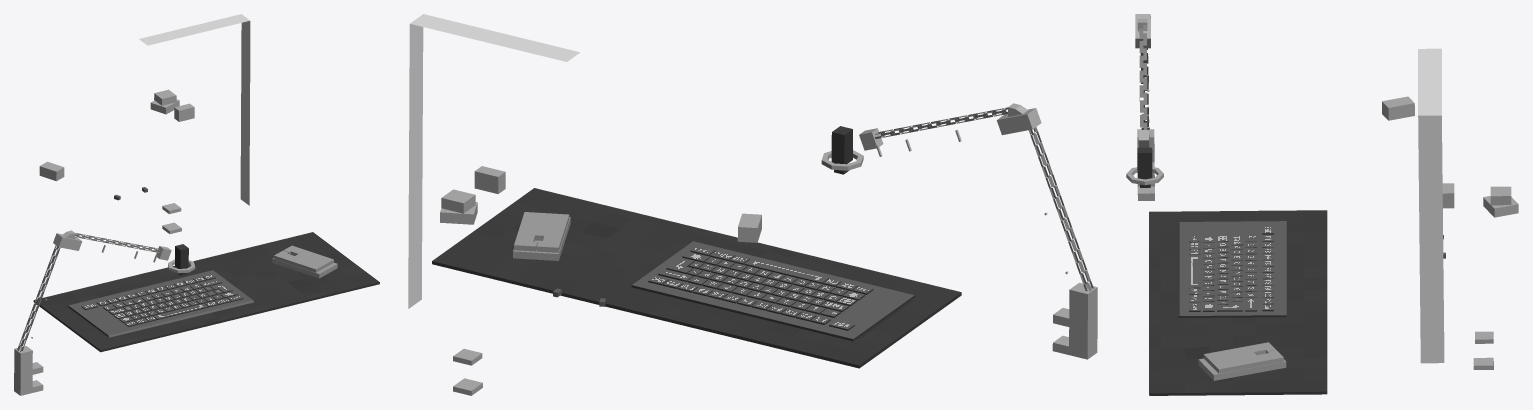
Rendered from room_level4_group_09_lev1.glb.
The picture shows the model from 3 angles, left to right: view 1: azimuth 30°, elevation 25°; view 2: azimuth 150°, elevation 25°; view 3: azimuth 270°, elevation 25°; orthographic projection. The views are drawn at different scales.
Parts seen in each view (by area): view 1: Object_7, Object_6, Object_9, Object_8; view 2: Object_7, Object_6, Object_9, Object_8; view 3: Object_7, Object_6, Object_8, Object_9.
Boxes of the visible parts, <box> form: Object_7: <box>33,232,379,352</box>; Object_6: <box>68,187,337,337</box>; Object_9: <box>14,89,195,395</box>; Object_8: <box>139,14,250,205</box>; Object_7: <box>432,126,961,368</box>; Object_6: <box>513,212,915,341</box>; Object_9: <box>440,103,1097,395</box>; Object_8: <box>408,14,580,308</box>; Object_7: <box>1137,147,1327,395</box>; Object_6: <box>1177,221,1445,380</box>; Object_8: <box>1418,48,1444,363</box>; Object_9: <box>1126,14,1518,369</box>.
Size of the model in its own units: 12.49 by 7.11 by 8.77.
Materials: 4 (3 with a texture image).
